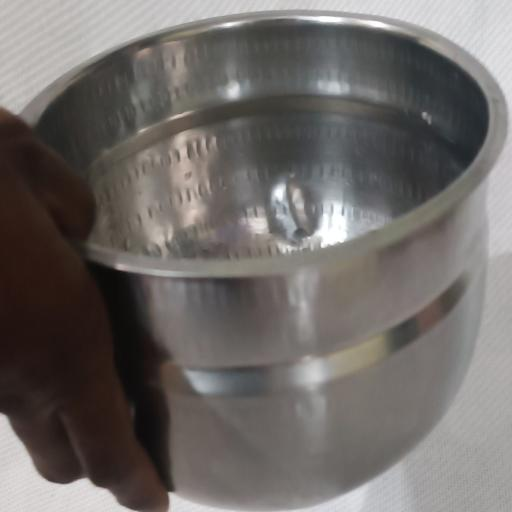vessel: (23, 12, 506, 509)
